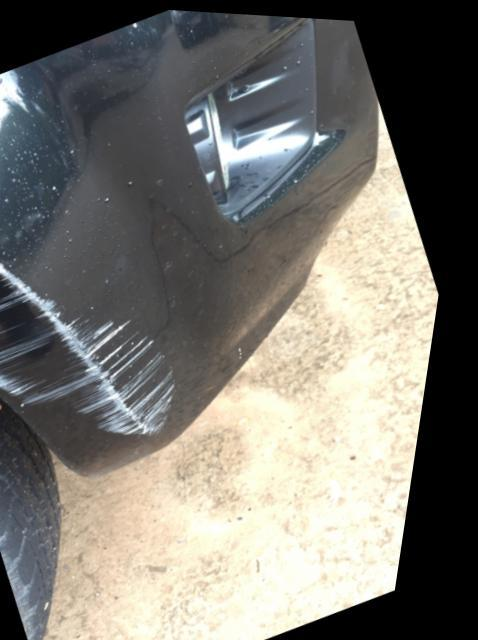scratch: (0, 246, 195, 439)
